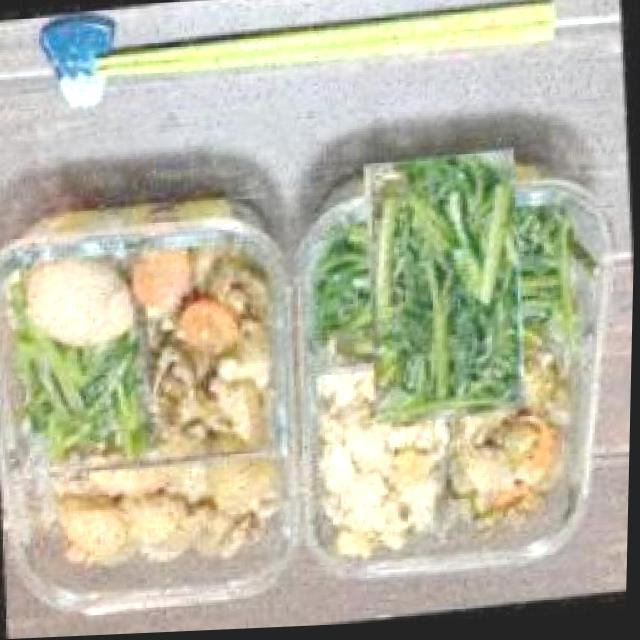water_spinach: (336, 178, 560, 406), (7, 344, 152, 477)
